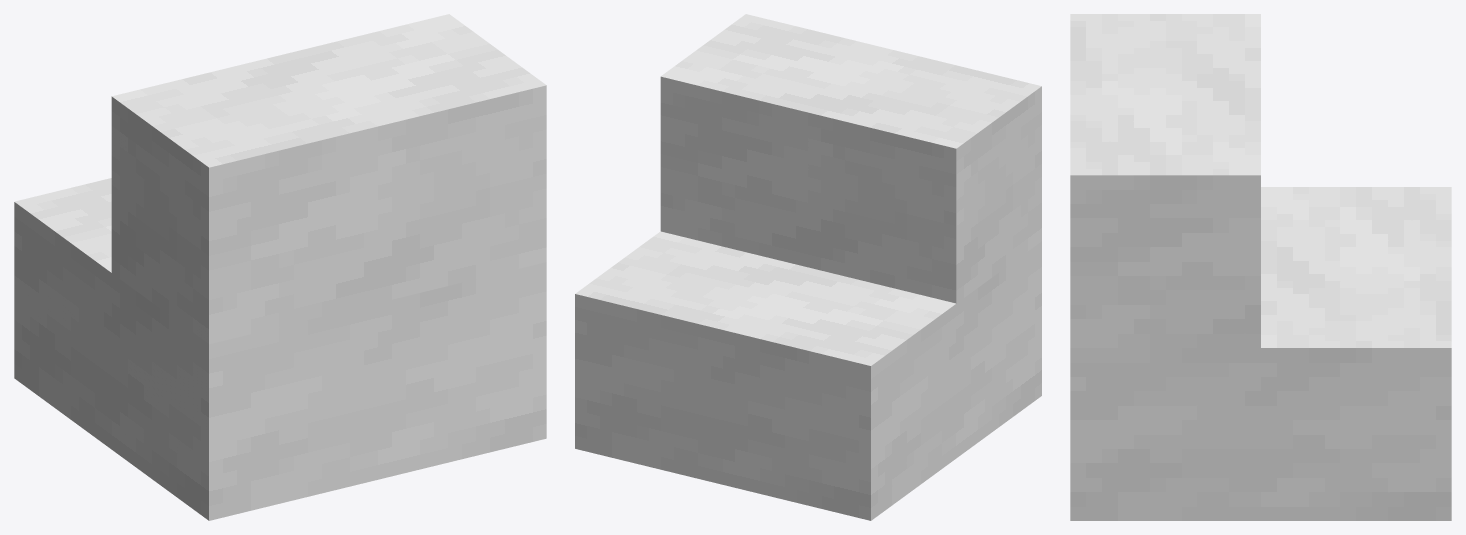
Rendered from white concrete stairs.gltf.
3 renders of one model, left to right at view 1: azimuth 30°, elevation 25°; view 2: azimuth 150°, elevation 25°; view 3: azimuth 270°, elevation 25°, orthographic. The views are drawn at different scales.
Visible parts, largest first — view 1: cube; view 2: cube; view 3: cube.
Boxes of the visible parts, x1,y1,x2,y2 form: cube: (14, 14, 546, 520); cube: (575, 14, 1041, 520); cube: (1070, 14, 1451, 520).
Bounding box in the file's own units: 1 × 1 × 1.
Materials: 1 (1 with a texture image).
